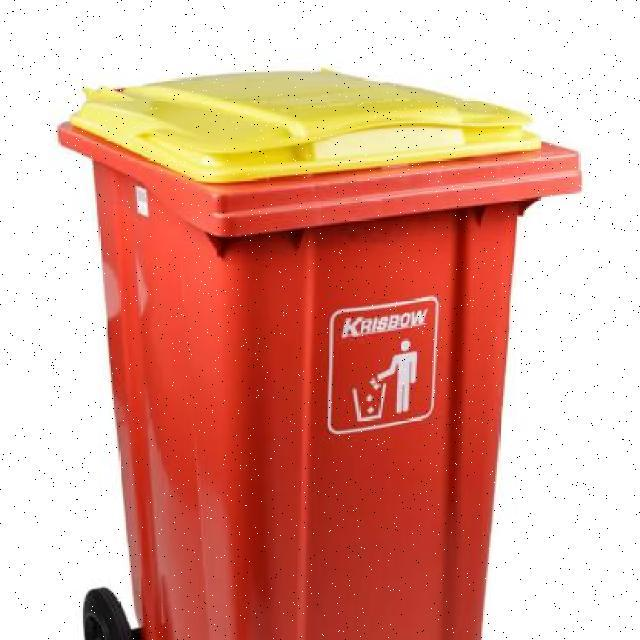garbage container: (47, 58, 604, 640)
